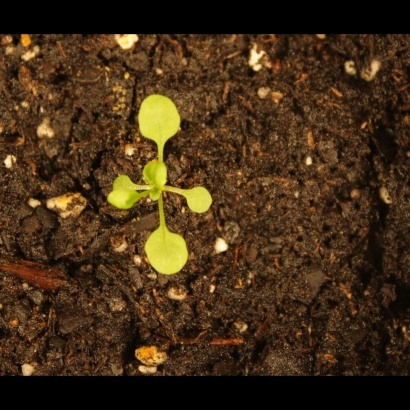leaf: (131, 89, 196, 148), (136, 220, 196, 277), (186, 183, 220, 221), (96, 188, 150, 211), (107, 163, 140, 196), (141, 158, 170, 188)
